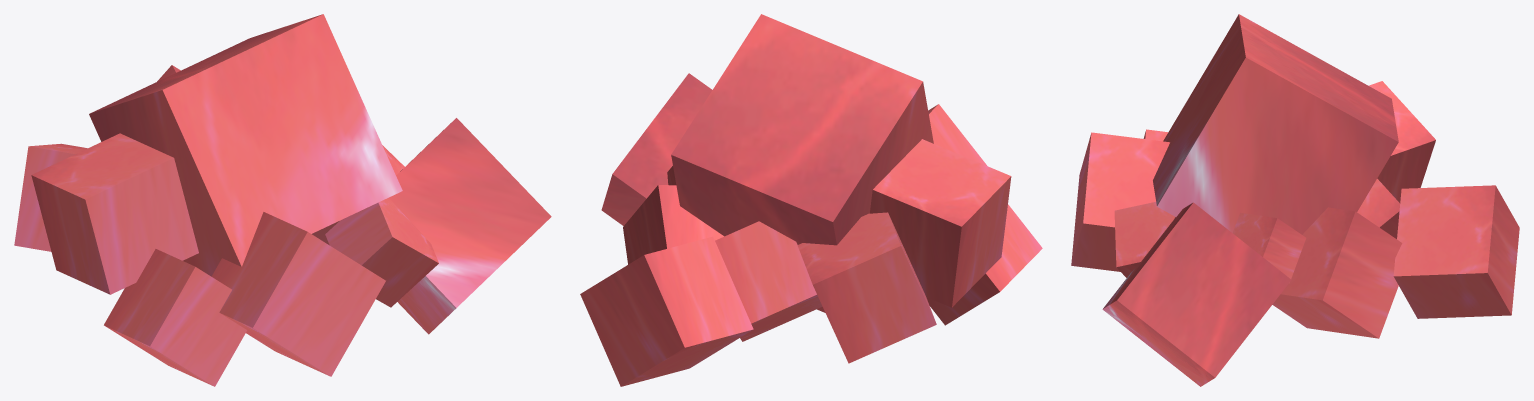
File: lingmengkuang_4.fbx
The picture shows the model from 3 angles, left to right: view 1: azimuth 30°, elevation 25°; view 2: azimuth 150°, elevation 25°; view 3: azimuth 270°, elevation 25°; orthographic projection. The views are drawn at different scales.
Visible parts, largest first — view 1: pCube23; view 2: pCube23; view 3: pCube23.
Part boxes in pixels (<box>): pCube23: <box>14,14,551,386</box>; pCube23: <box>580,14,1042,386</box>; pCube23: <box>1071,14,1519,386</box>.
Bounding box in the file's own units: 116 × 82.26 × 114.
